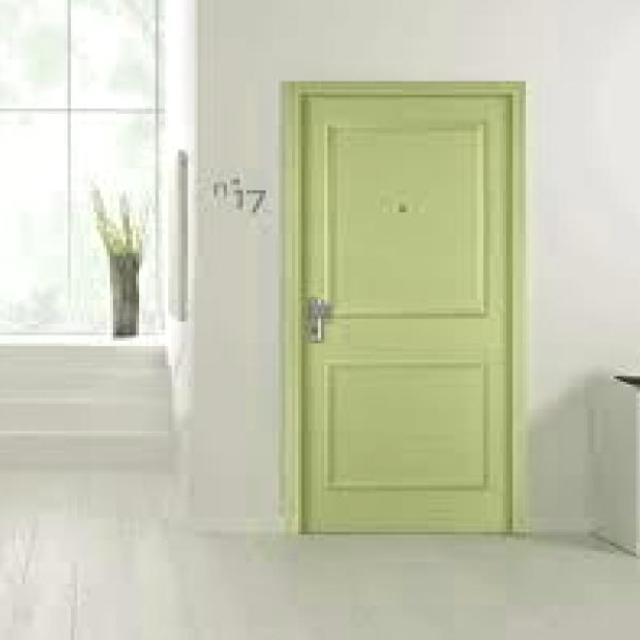door: (292, 83, 517, 535)
